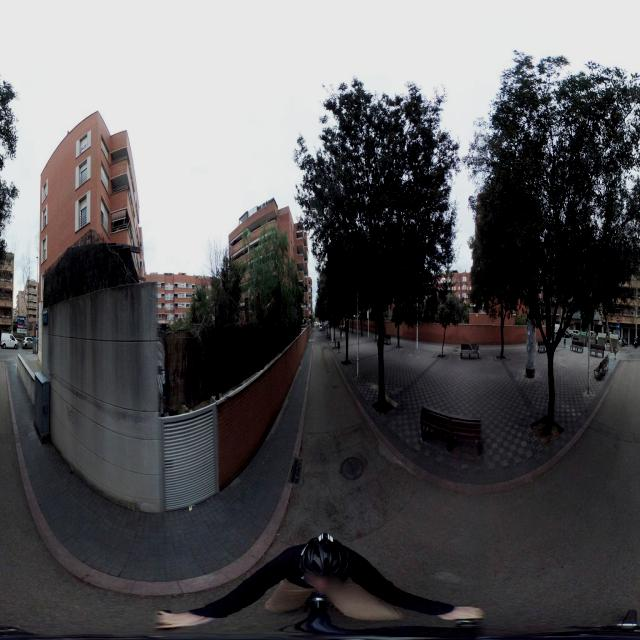car: (0, 331, 18, 351), (22, 333, 36, 351)
